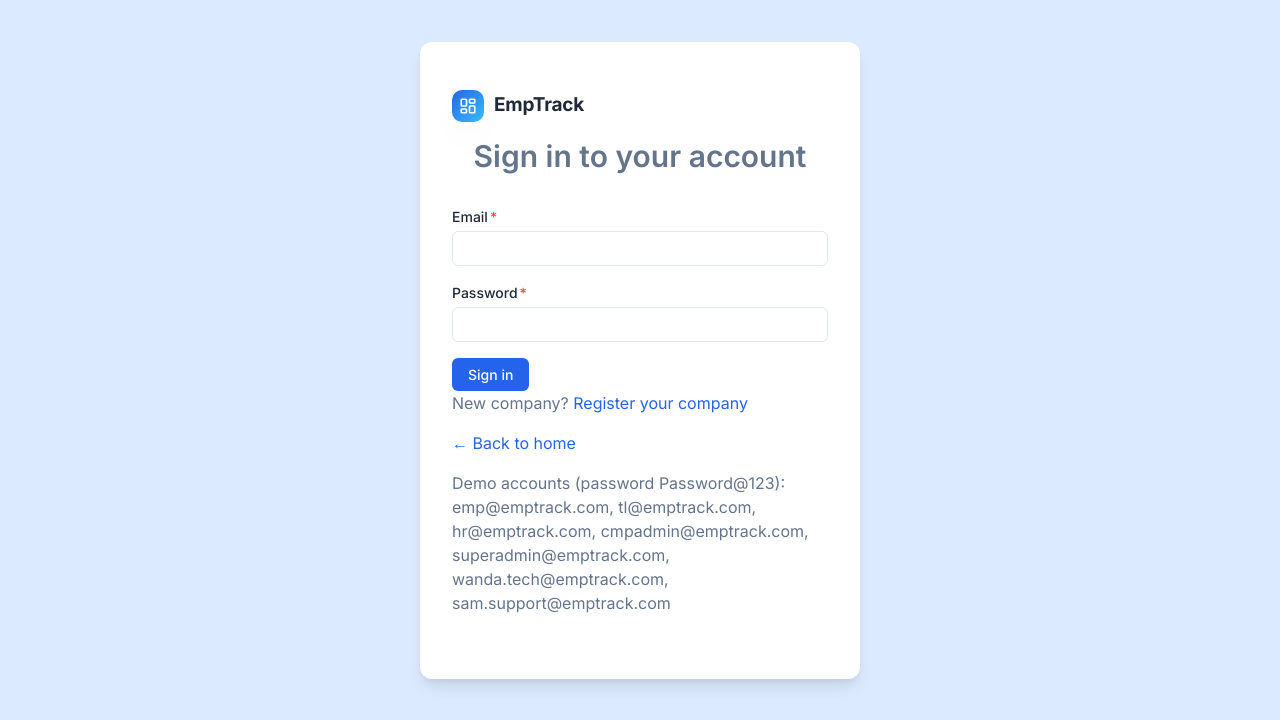
Test: role-based routing › logs ravi.platform@emptrack.com in to the PLATFORM_ADMIN dashboard
In the field labelled "Email*": (640, 248) left=452, top=230, right=828, bottom=266, type "ravi.platform@emptrack.com"
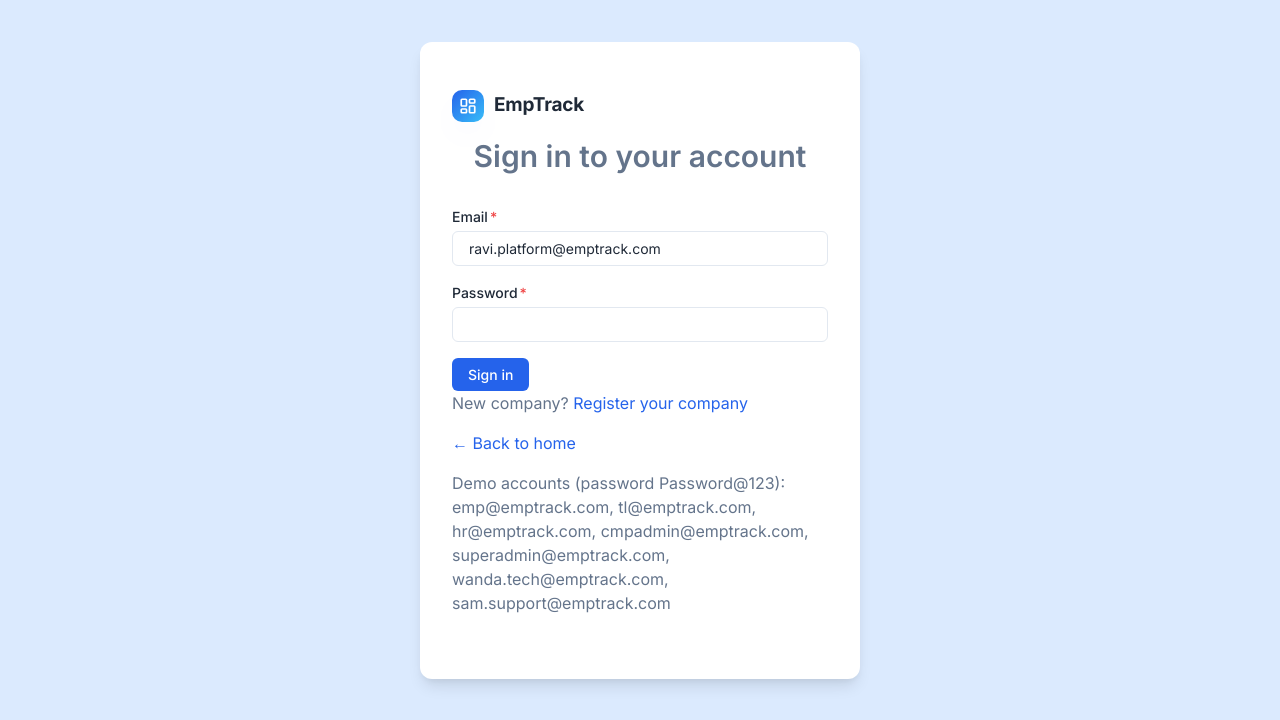
In the password field labelled "Password*": (640, 324) left=452, top=306, right=828, bottom=342, type "Password@123"
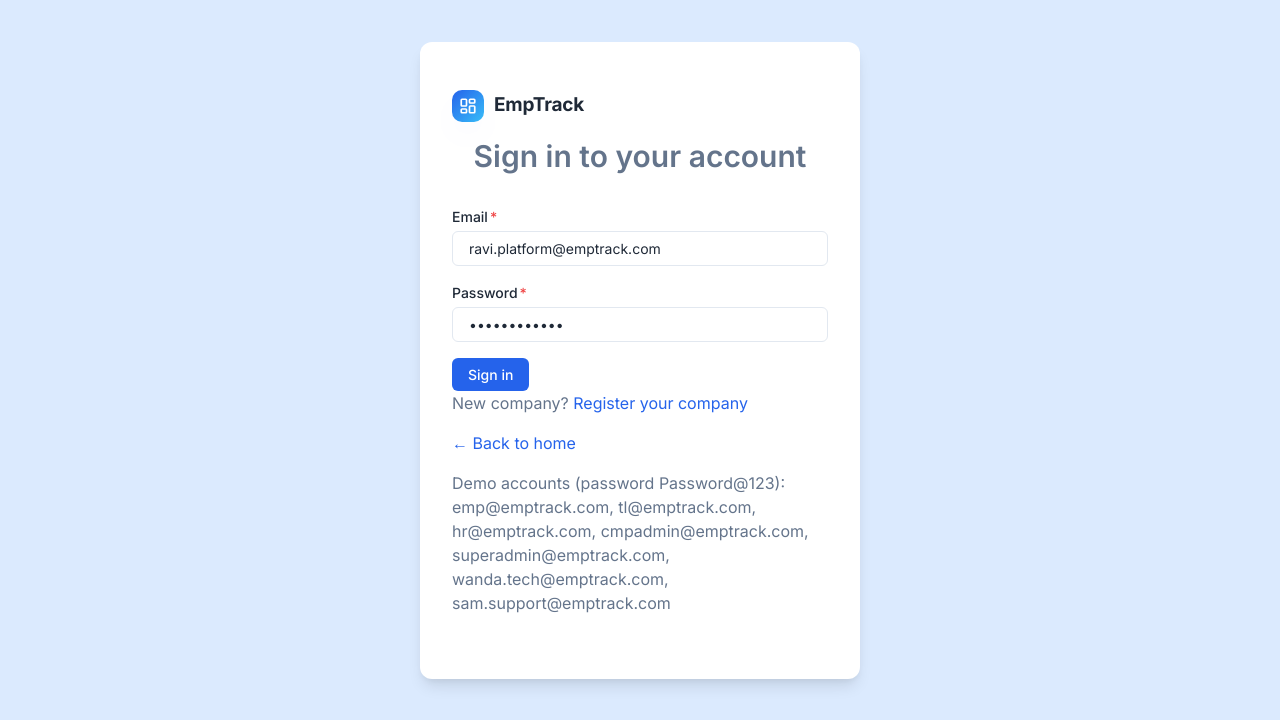
Click the button "Sign in": (491, 374) left=452, top=358, right=529, bottom=390
(page scrolled)
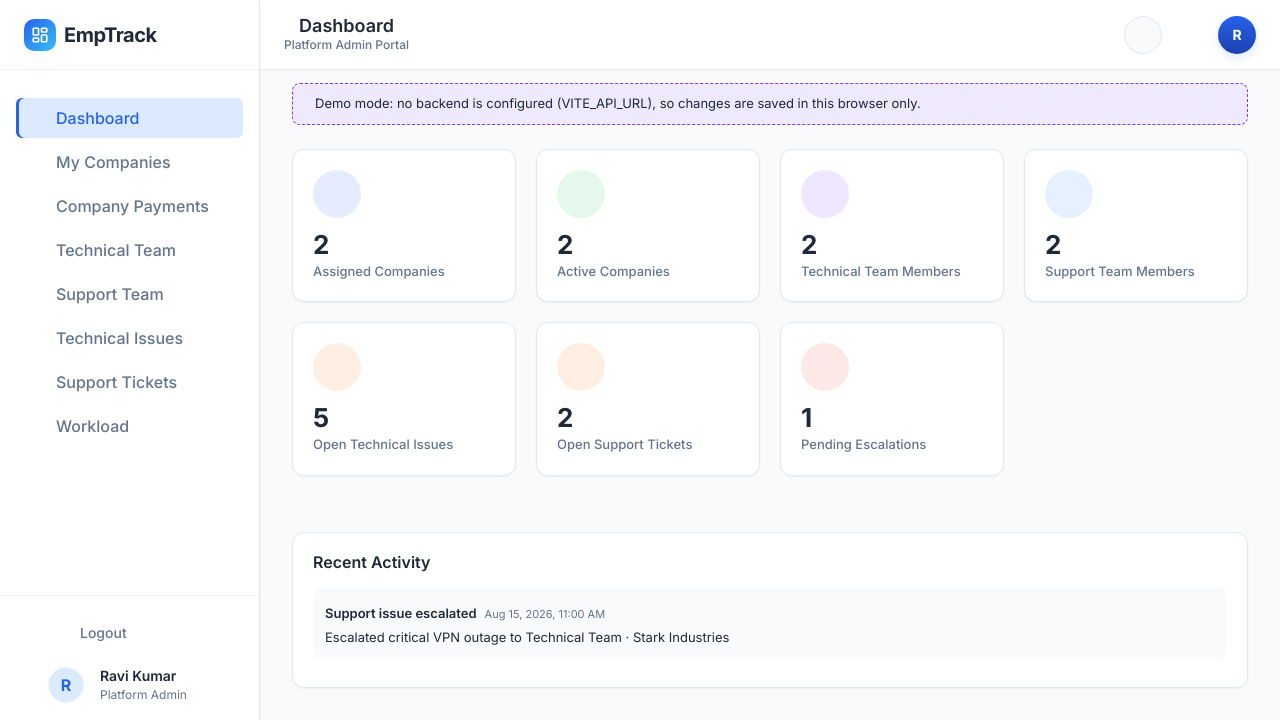
Result: the element with id "main-content" is shown
